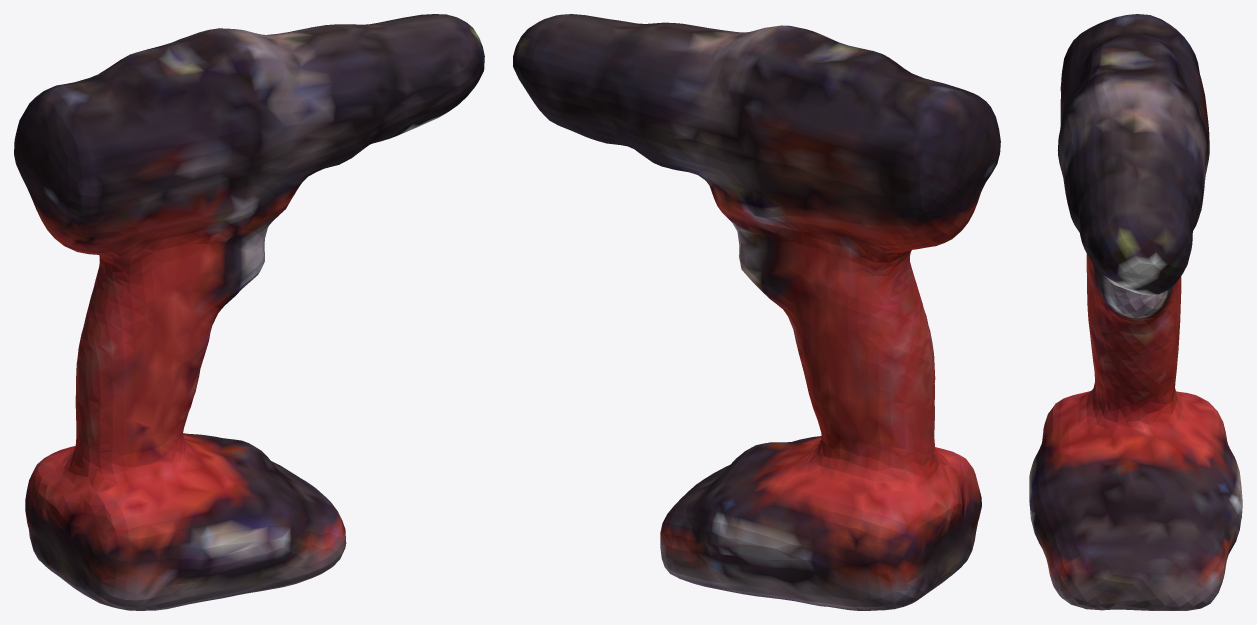
File: BD_drill_2.dae
3 views of the same model, side by side, from view 1: azimuth 30°, elevation 25°; view 2: azimuth 150°, elevation 25°; view 3: azimuth 270°, elevation 25° (orthographic). The views are drawn at different scales.
Parts seen in each view (by area): view 1: node; view 2: node; view 3: node.
Part boxes in pixels (x1=…): node: x1=14, y1=14, x2=484, y2=610; node: x1=513, y1=14, x2=1000, y2=610; node: x1=1029, y1=14, x2=1242, y2=610.
Size of the model in its own units: 0.1937 by 0.0838 by 0.2189.
